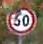limite 50: (5, 4, 37, 35)
